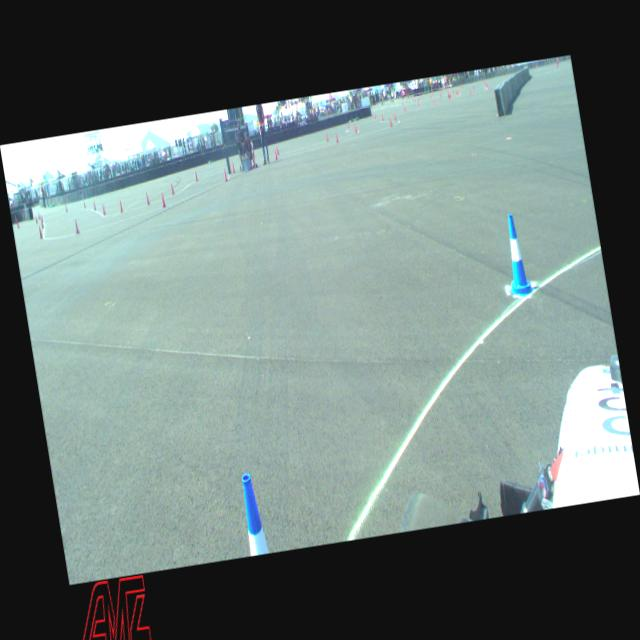blue_cone: (497, 212, 537, 300), (238, 472, 270, 556)
unknown_cone: (38, 223, 44, 240), (74, 218, 80, 234), (160, 192, 166, 208), (118, 200, 124, 212), (223, 168, 228, 181), (170, 183, 175, 195), (334, 132, 339, 144), (231, 162, 236, 173), (102, 202, 106, 215), (146, 192, 150, 205), (194, 170, 198, 182), (276, 144, 280, 156), (388, 116, 392, 128), (274, 149, 278, 160), (325, 131, 329, 142)
